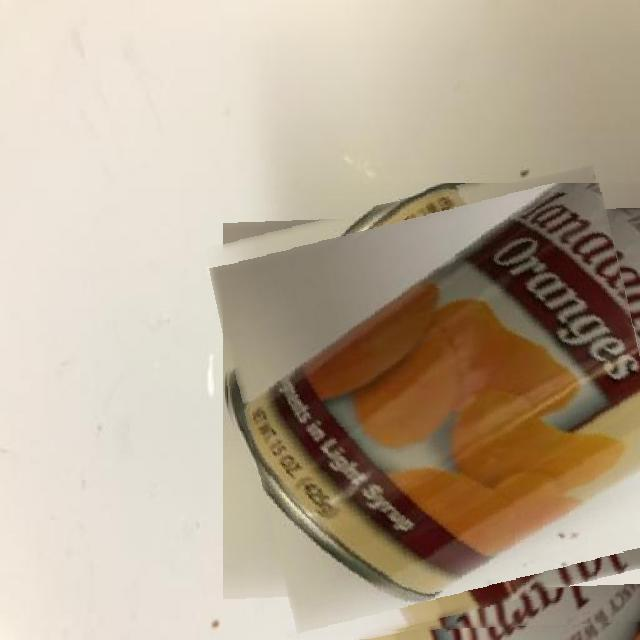recyclable: (223, 183, 640, 637)
